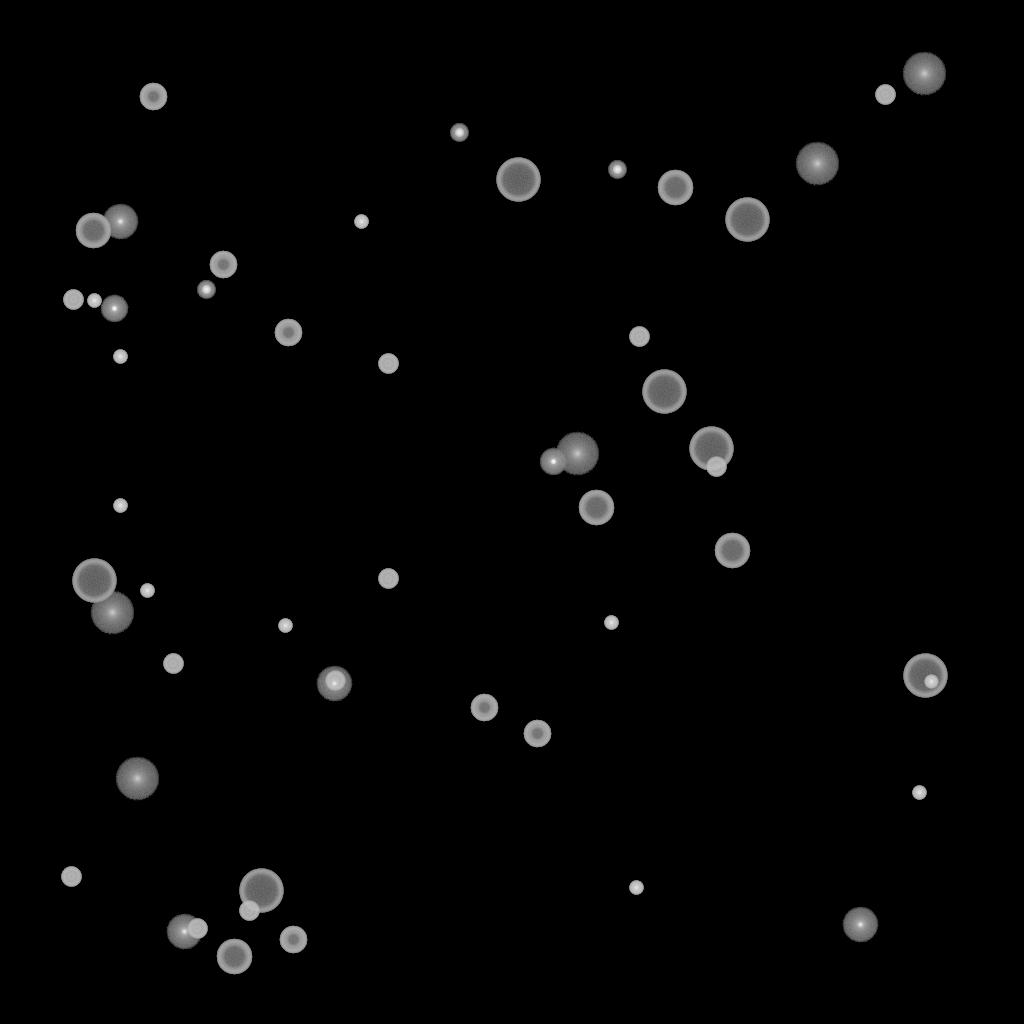depth:-10: (539, 448, 567, 476), (100, 295, 128, 323)
depth:-20: (197, 281, 215, 299), (608, 161, 626, 179), (450, 124, 468, 142)
depth:-30: (912, 786, 926, 800), (87, 294, 101, 308), (113, 350, 127, 364), (604, 616, 618, 630), (140, 584, 154, 598), (354, 215, 368, 229), (113, 499, 127, 513), (629, 881, 643, 895), (278, 619, 292, 633), (924, 675, 938, 689)
depth:-40: (706, 457, 726, 477), (239, 901, 259, 921), (325, 671, 345, 691), (63, 290, 83, 310), (629, 327, 649, 347), (378, 569, 398, 589), (875, 85, 895, 105), (187, 919, 207, 939), (163, 654, 183, 674), (378, 354, 398, 374), (61, 867, 81, 887)
depth:-50: (139, 83, 167, 111), (209, 251, 237, 279), (470, 694, 498, 722), (274, 319, 302, 347), (279, 926, 307, 954), (523, 720, 551, 748)
depth:-60: (216, 939, 252, 975), (578, 490, 614, 526), (657, 170, 693, 206), (75, 213, 111, 249), (714, 533, 750, 569)
depth:-70: (239, 869, 283, 913), (642, 370, 686, 414), (72, 559, 116, 603), (903, 654, 947, 698), (496, 158, 540, 202), (689, 427, 733, 471), (725, 198, 769, 242)
depth:0: (166, 914, 202, 950), (102, 204, 138, 240), (316, 666, 352, 702), (842, 907, 878, 943)
depth:10: (115, 757, 159, 801), (902, 52, 946, 96), (795, 142, 839, 186), (90, 591, 134, 635), (555, 432, 599, 476)
